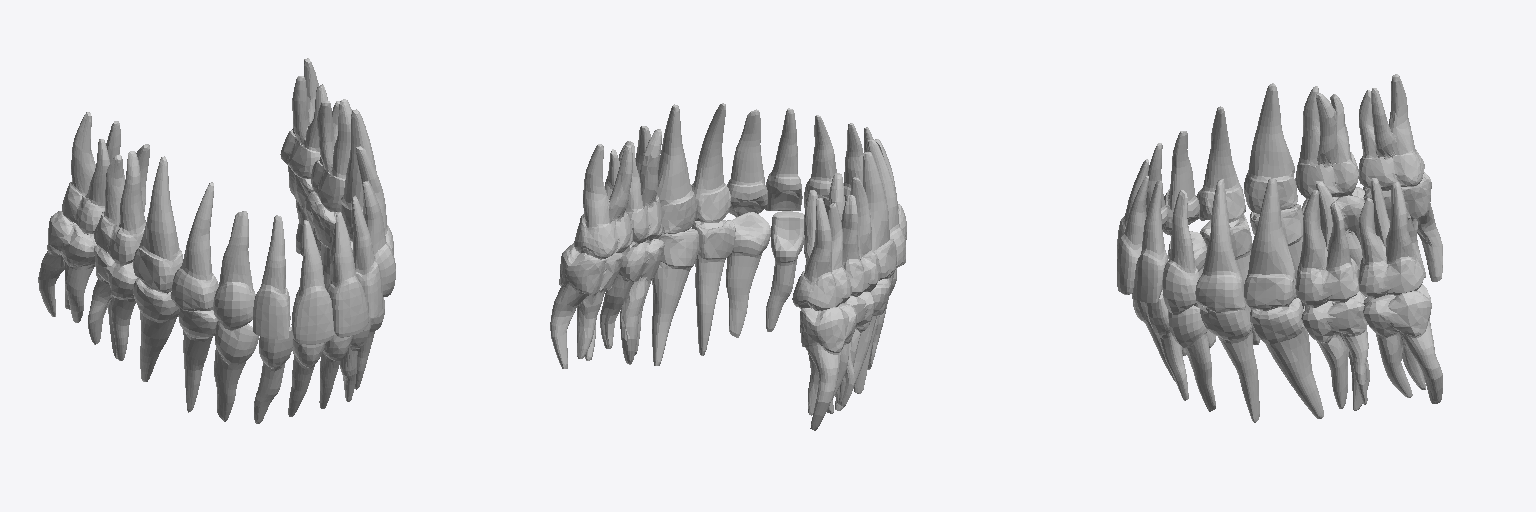
File: teeth.obj
3 views of the same model, side by side, from view 1: azimuth 30°, elevation 25°; view 2: azimuth 150°, elevation 25°; view 3: azimuth 270°, elevation 25° (orthographic).
Visible parts, largest first — view 1: Tooth_High_Res1, Tooth_High_Res26, Tooth_High_Res, Tooth_High_Res2, Tooth_High_Res25, Tooth_High_Res12, Tooth_High_Res3, Tooth_High_Res4, Tooth_High_Res6, Tooth_High_Res13, Tooth_High_Res7, Tooth_High_Res5 (+14 smaller); view 2: Tooth_High_Res13, Tooth_High_Res14, Tooth_High_Res, Tooth_High_Res26, Tooth_High_Res15, Tooth_High_Res1, Tooth_High_Res16, Tooth_High_Res11, Tooth_High_Res12, Tooth_High_Res18, Tooth_High_Res17, Tooth_High_Res10 (+9 smaller); view 3: Tooth_High_Res14, Tooth_High_Res13, Tooth_High_Res12, Tooth_High_Res, Tooth_High_Res1, Tooth_High_Res15, Tooth_High_Res11, Tooth_High_Res16, Tooth_High_Res2, Tooth_High_Res10, Tooth_High_Res17, Tooth_High_Res9 (+13 smaller).
Part boxes in pixels (x1,y1,x2,y2): Tooth_High_Res1: (94,144,149,266); Tooth_High_Res26: (38,211,96,322); Tooth_High_Res: (62,112,120,234); Tooth_High_Res2: (133,156,182,293); Tooth_High_Res25: (88,245,137,360); Tooth_High_Res12: (311,99,351,211); Tooth_High_Res3: (171,182,218,311); Tooth_High_Res4: (213,211,255,330); Tooth_High_Res6: (291,220,333,344); Tooth_High_Res13: (280,58,327,178); Tooth_High_Res7: (327,212,368,337); Tooth_High_Res5: (253,215,290,339); Tooth_High_Res13: (574,144,632,259); Tooth_High_Res14: (550,243,622,368); Tooth_High_Res: (792,190,851,310); Tooth_High_Res26: (800,303,856,430); Tooth_High_Res15: (600,239,664,364); Tooth_High_Res1: (829,173,879,296); Tooth_High_Res16: (652,228,698,365); Tooth_High_Res11: (657,104,696,233); Tooth_High_Res12: (619,126,662,243); Tooth_High_Res18: (726,212,770,337); Tooth_High_Res17: (692,220,735,355); Tooth_High_Res10: (691,103,730,222); Tooth_High_Res14: (1363,284,1442,403); Tooth_High_Res13: (1358,178,1424,298); Tooth_High_Res12: (1295,181,1358,307); Tooth_High_Res: (1359,74,1424,190); Tooth_High_Res1: (1295,86,1358,199); Tooth_High_Res15: (1301,291,1369,410); Tooth_High_Res11: (1244,178,1297,310); Tooth_High_Res16: (1250,298,1323,418); Tooth_High_Res2: (1244,83,1297,213); Tooth_High_Res10: (1195,179,1245,312); Tooth_High_Res17: (1200,304,1259,422); Tooth_High_Res9: (1162,190,1199,315).
Size of the model in its own units: 0.6721 by 0.578 by 0.6697.